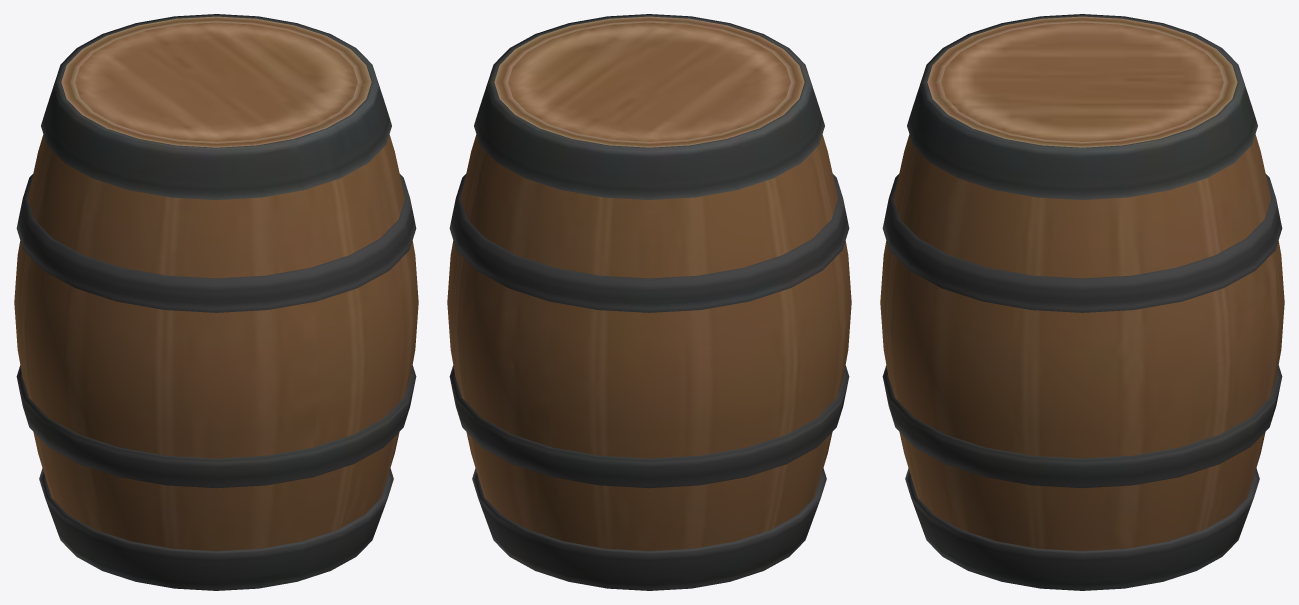
The model's file is barrel.glb.
3 renders of one model, left to right at view 1: azimuth 30°, elevation 25°; view 2: azimuth 150°, elevation 25°; view 3: azimuth 270°, elevation 25°, orthographic.
Visible parts, largest first — view 1: FtrPirateBarrel_node1; view 2: FtrPirateBarrel_node1; view 3: FtrPirateBarrel_node1.
Part boxes in pixels (x1,y1,x2,y2): FtrPirateBarrel_node1: [14, 14, 418, 590]; FtrPirateBarrel_node1: [447, 14, 851, 590]; FtrPirateBarrel_node1: [880, 14, 1284, 590].
Size of the model in its own units: 9.7 by 11.66 by 9.7.
Materials: 1 (1 with a texture image).
